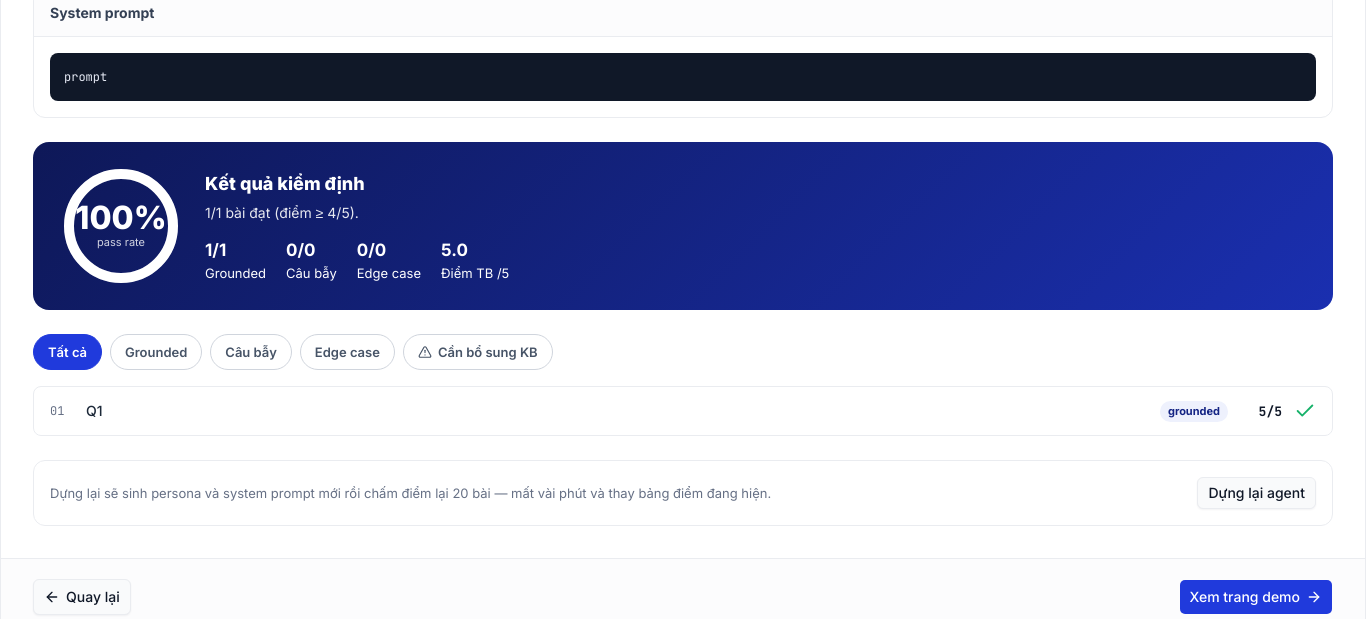
it: Step3Build › sửa câu trả lời gửi đúng runId và ord rồi cập nhật tại chỗ
The width and height of the screenshot is (1366, 619).
(page scrolled)
Click the button "01 Q1 grounded 5/5" at (1194, 411), box [34,387,1332,435]
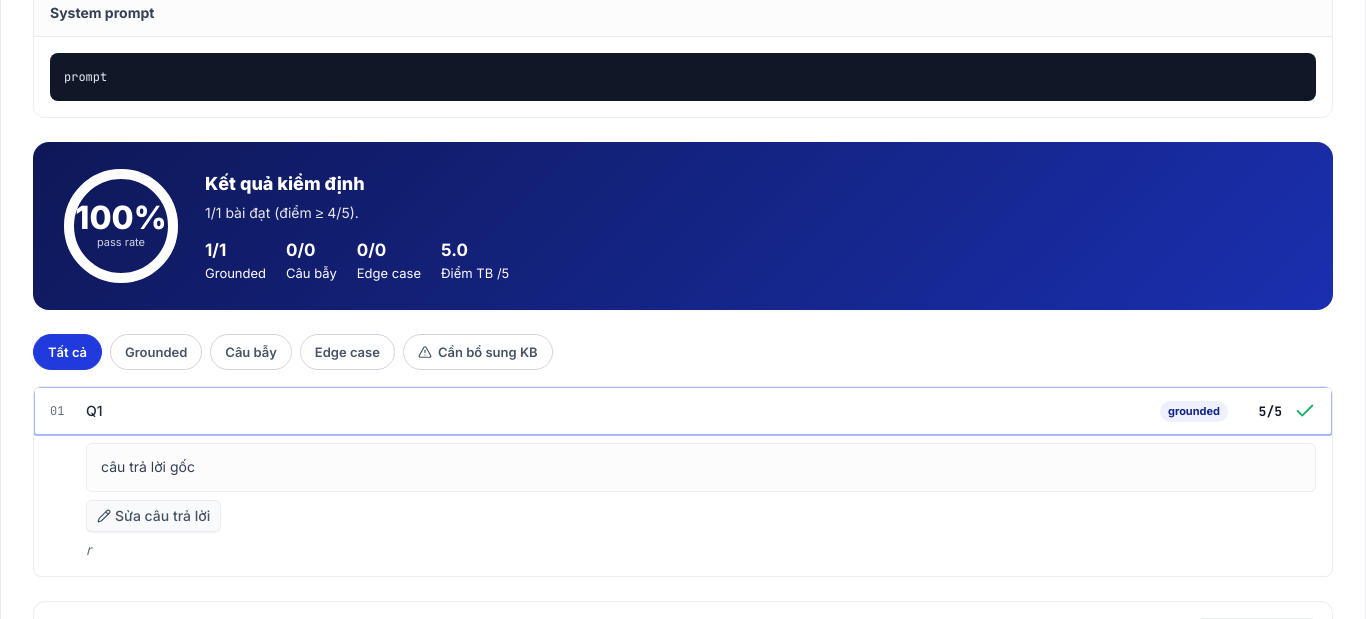
Click the button "Sửa câu trả lời" at (154, 516), box [86,500,221,532]
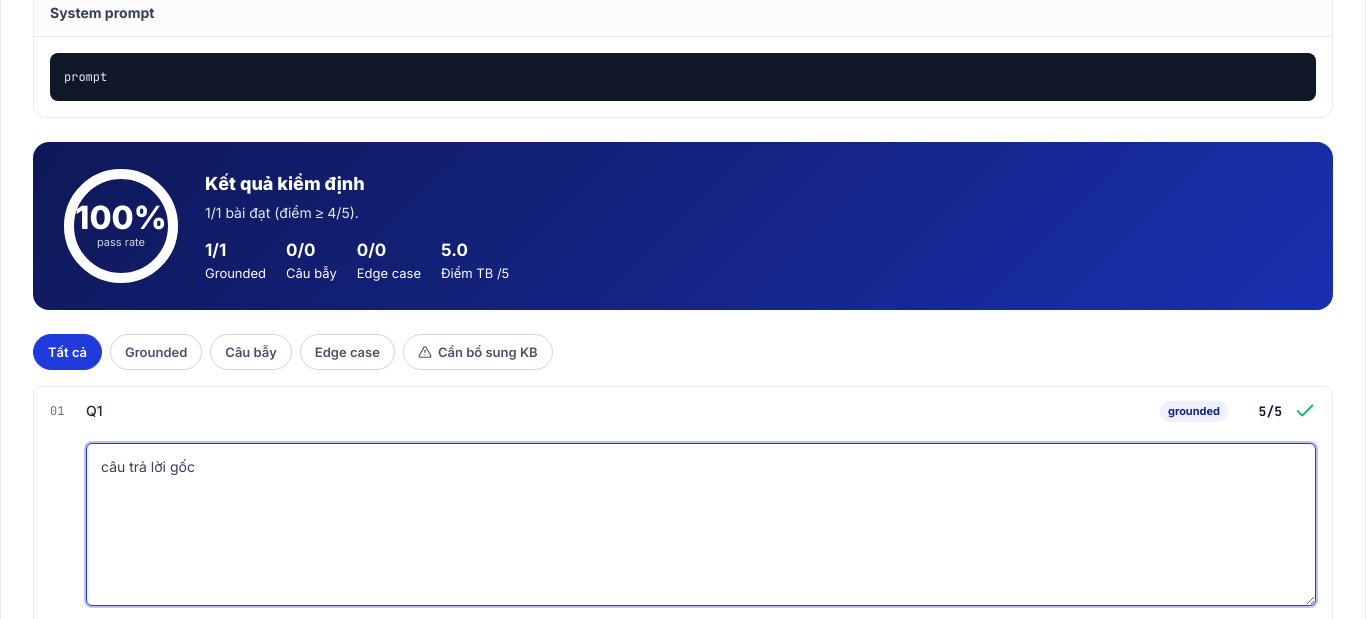
Replace the text in the text box with "đã sửa" at (701, 525), box [86,443,1316,606]
(page scrolled)
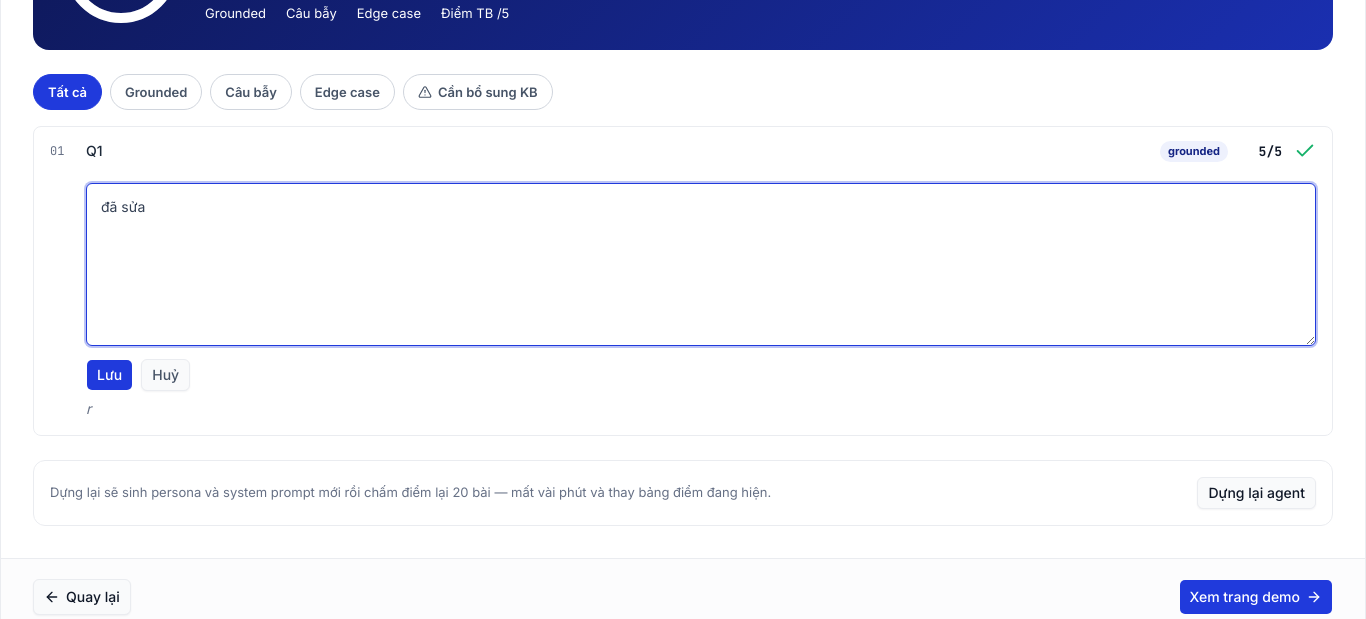
Click the button "Lưu" at (110, 375), box [86,359,133,391]
(page scrolled)
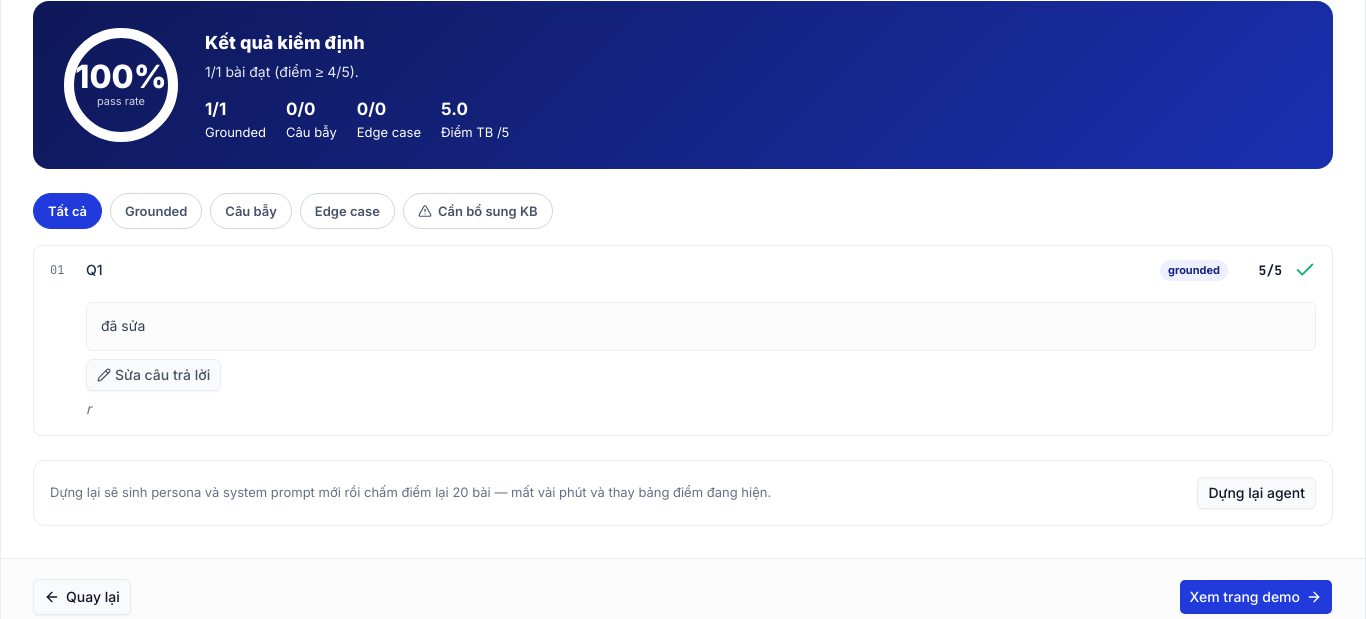
Expected: the text "câu trả lời gốc" is not shown
Expected: the text "đã sửa" is shown, [86,302,1316,351]
